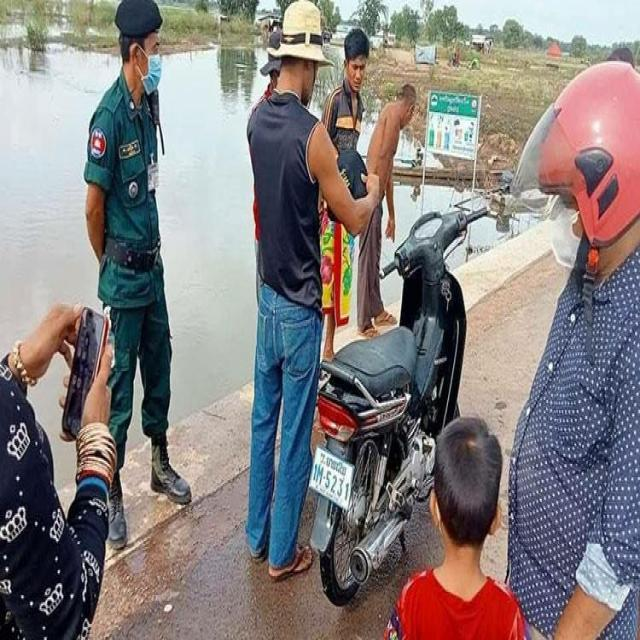Banteay_Meanchey: (319, 451, 347, 476)
